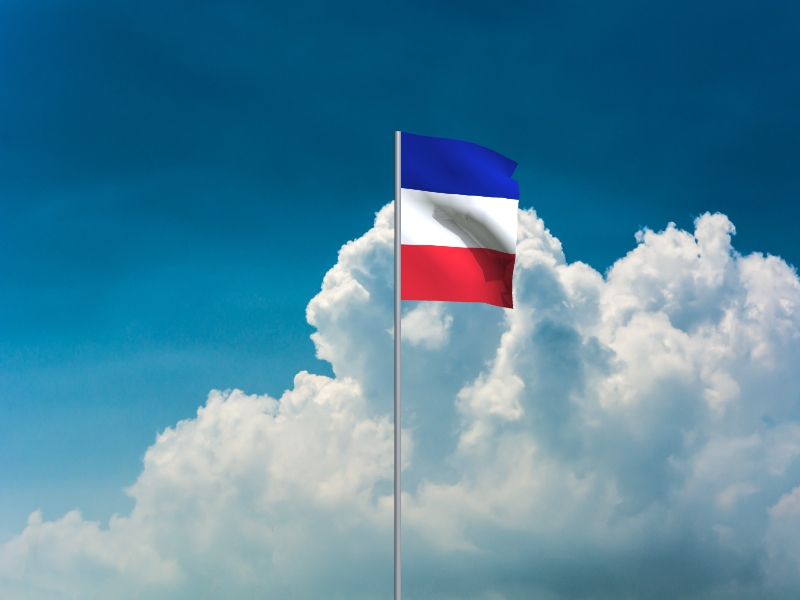fr: (402, 133, 522, 311)
